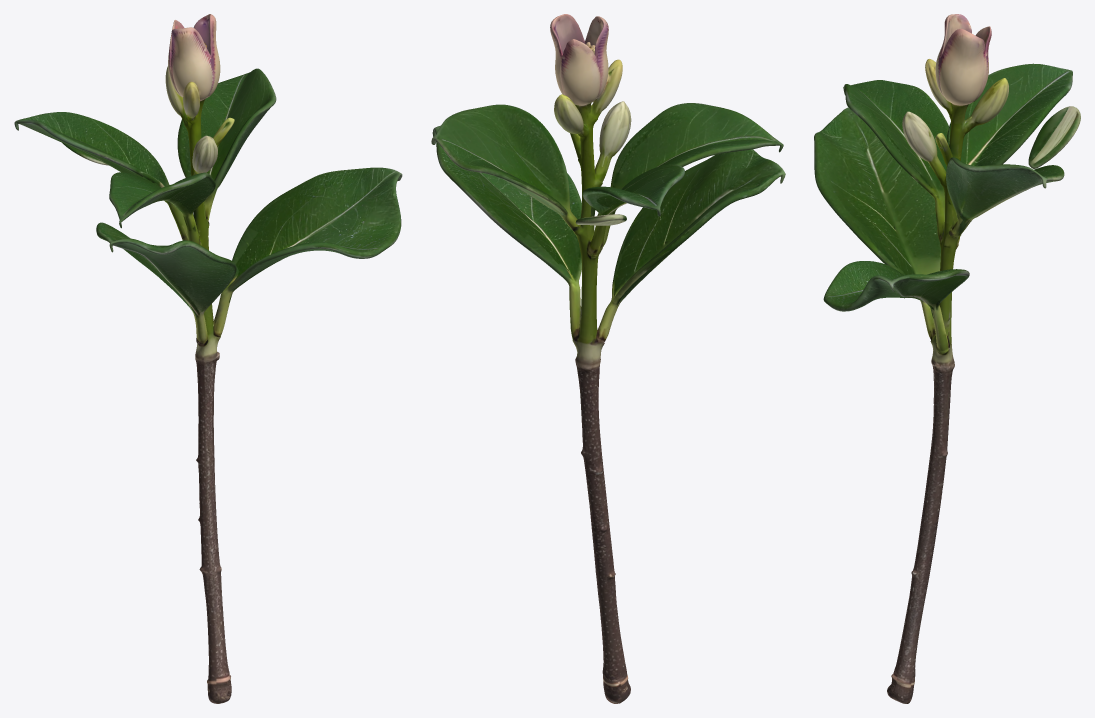
Rendered from hanxiaohua.glb.
3 views of the same model, side by side, from view 1: azimuth 30°, elevation 25°; view 2: azimuth 150°, elevation 25°; view 3: azimuth 270°, elevation 25° (orthographic). The views are drawn at different scales.
Parts seen in each view (by area): view 1: node_0; view 2: node_0; view 3: node_0.
Part boxes in pixels (<box>): node_0: <box>14,14,402,703</box>; node_0: <box>431,14,785,703</box>; node_0: <box>814,14,1080,703</box>.
Bounding box in the file's own units: 0.587 × 1.19 × 0.4213.
1 material, 1 textured.
